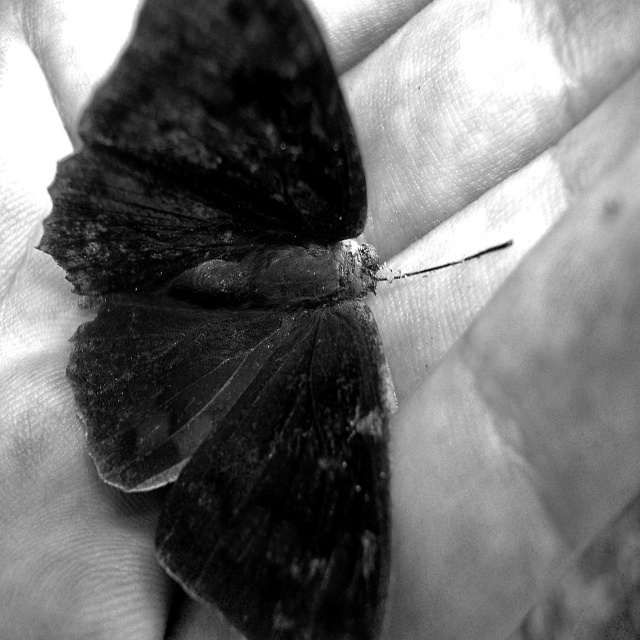Butterfly: (62, 41, 530, 626)
